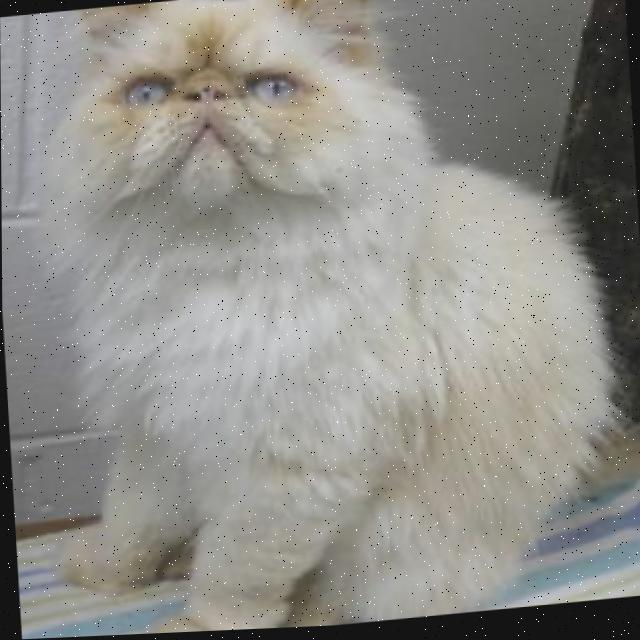Persian: (17, 0, 640, 639)
